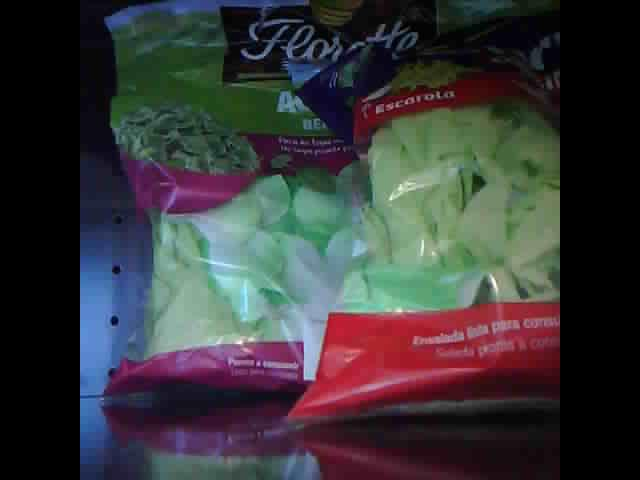florette: (99, 1, 498, 407), (277, 18, 563, 430)
